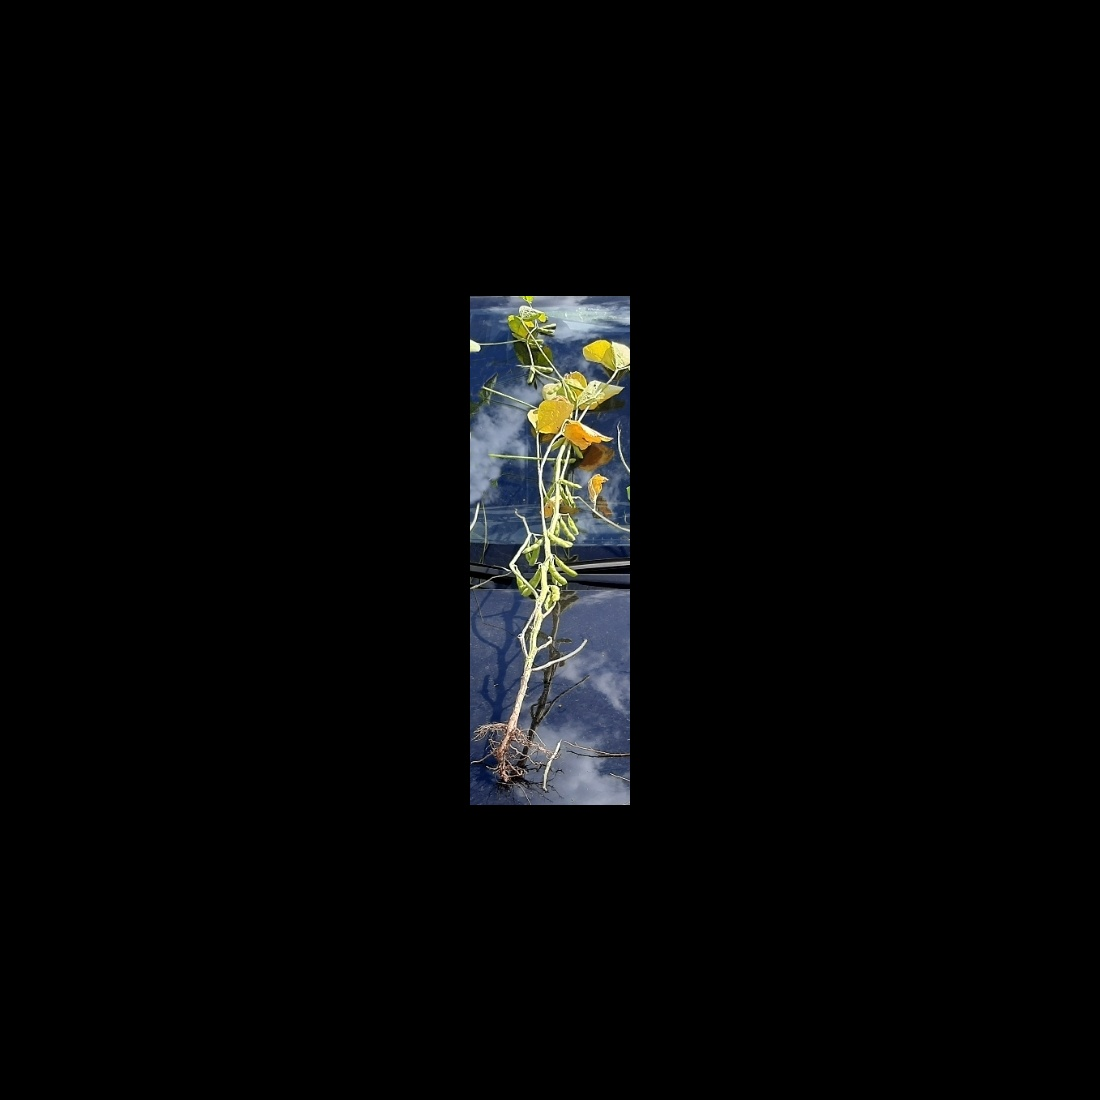pod: (520, 569, 542, 601), (547, 559, 570, 589), (552, 558, 580, 580), (556, 517, 578, 544), (549, 562, 570, 586), (520, 536, 545, 556), (546, 533, 578, 548), (527, 542, 541, 571), (559, 476, 584, 489)
soy: (479, 297, 616, 784)
